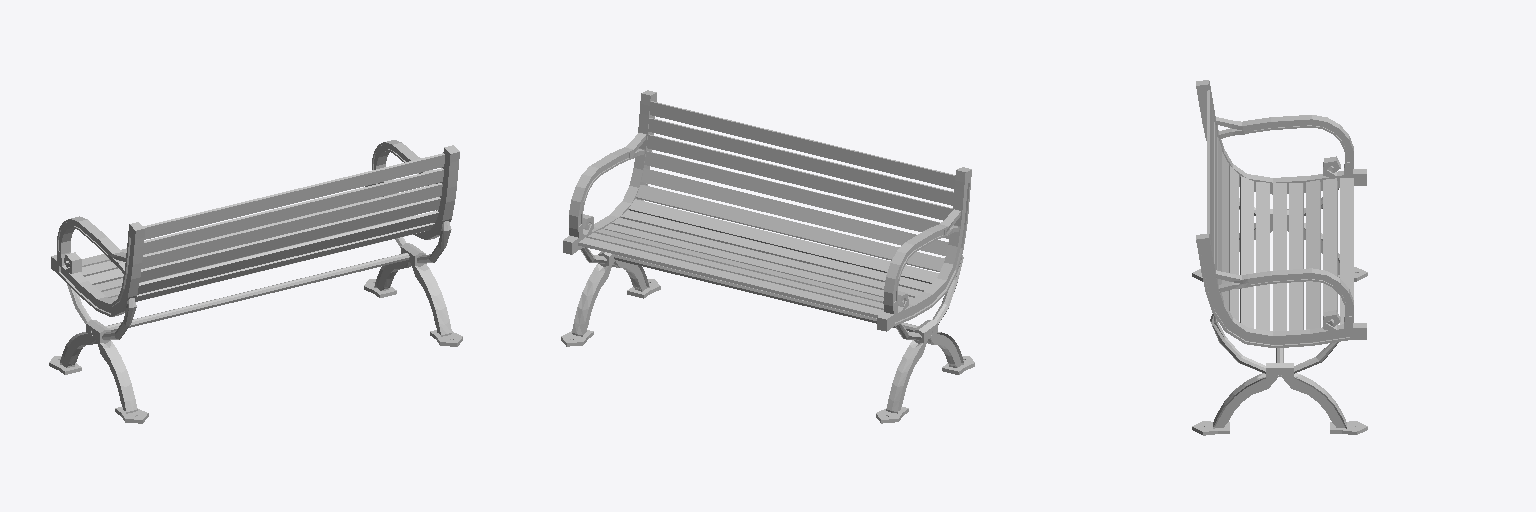
The model's file is bench.obj.
The picture shows the model from 3 angles: view 1: azimuth 30°, elevation 25°; view 2: azimuth 150°, elevation 25°; view 3: azimuth 270°, elevation 25°; orthographic projection.
Parts seen in each view (by area): view 1: Bench_LowRes; view 2: Bench_LowRes; view 3: Bench_LowRes.
Boxes of the visible parts, box(x1,y1,x2,y2) form: Bench_LowRes: box(49, 140, 462, 423); Bench_LowRes: box(561, 90, 974, 423); Bench_LowRes: box(1192, 80, 1367, 435).
Bounding box in the file's own units: 2.01 × 1.11 × 0.9071.